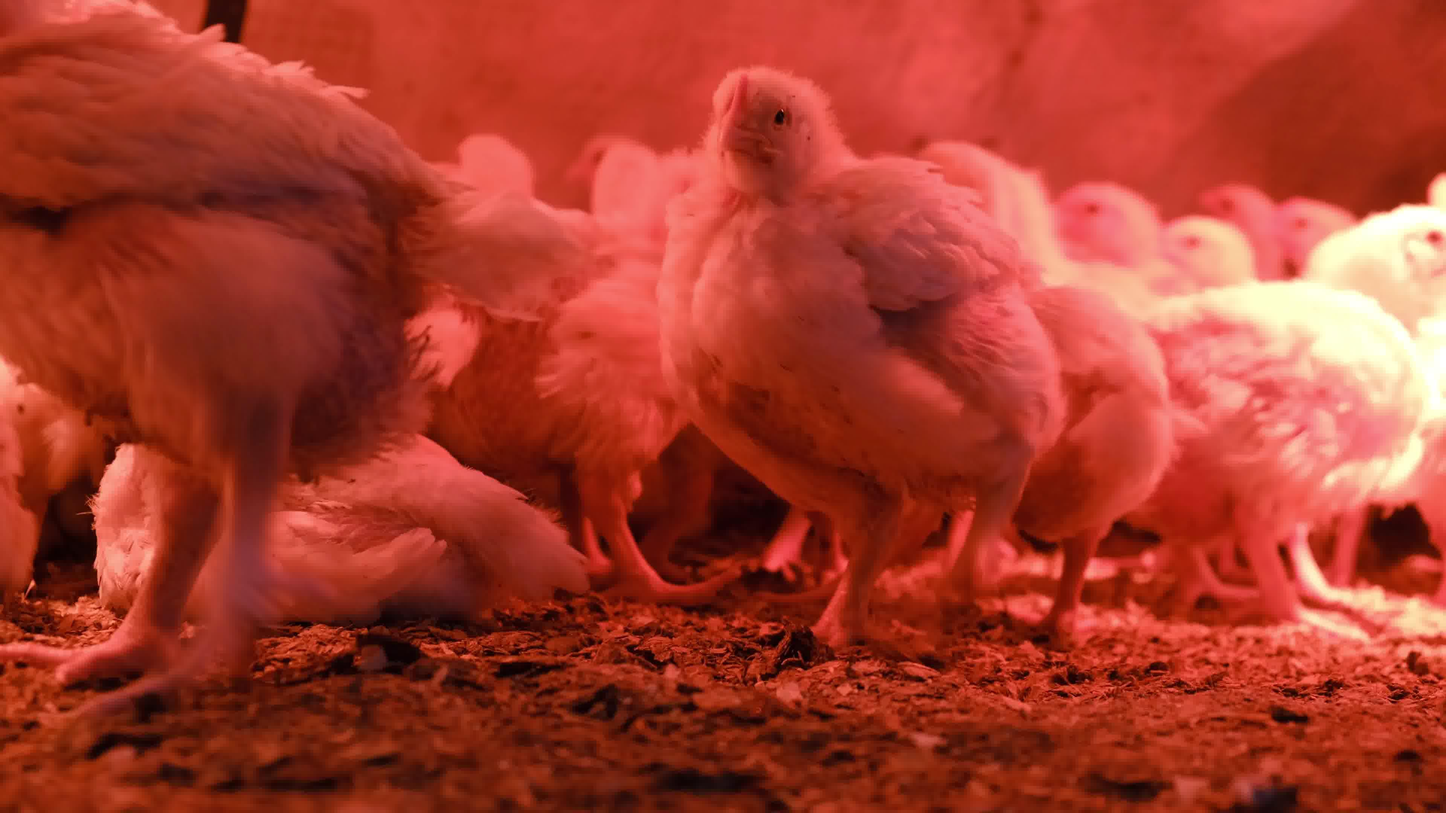AbNormal: (60, 376, 625, 659), (2, 327, 107, 717)
Normal: (0, 0, 465, 723), (665, 51, 1126, 640), (1124, 222, 1446, 593), (544, 77, 757, 615), (868, 105, 1036, 280), (975, 160, 1169, 286), (1135, 194, 1269, 327), (1235, 149, 1356, 256)
